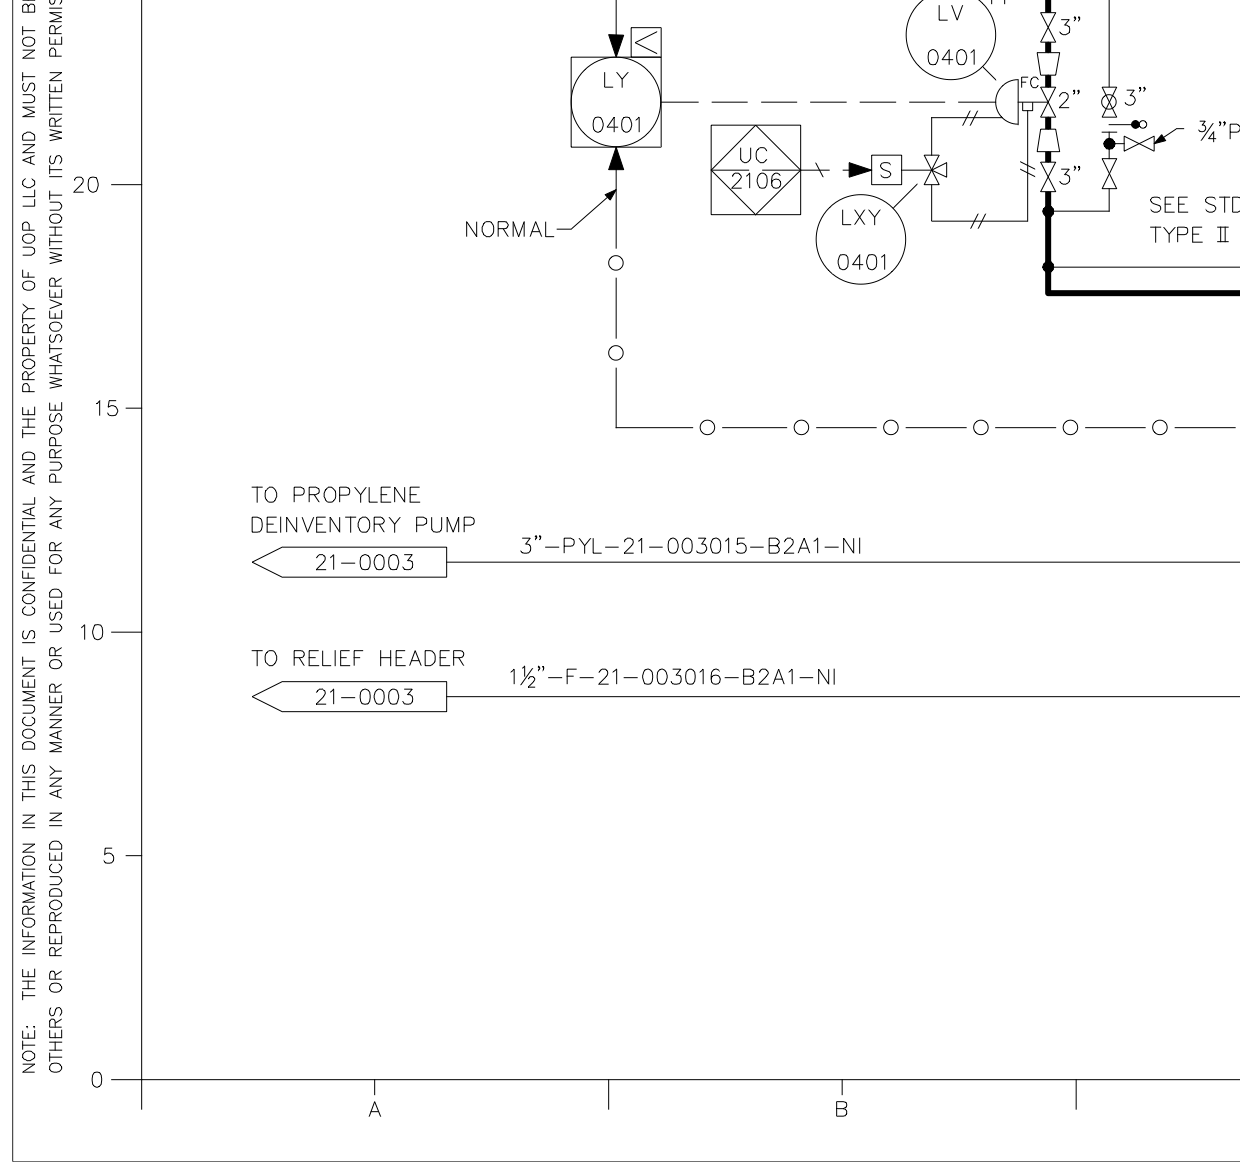Ball Valve: (1095, 82, 1125, 121)
Line Number: (514, 528, 865, 558), (501, 660, 852, 690)
Page Out: (243, 539, 455, 584), (248, 673, 460, 719)
